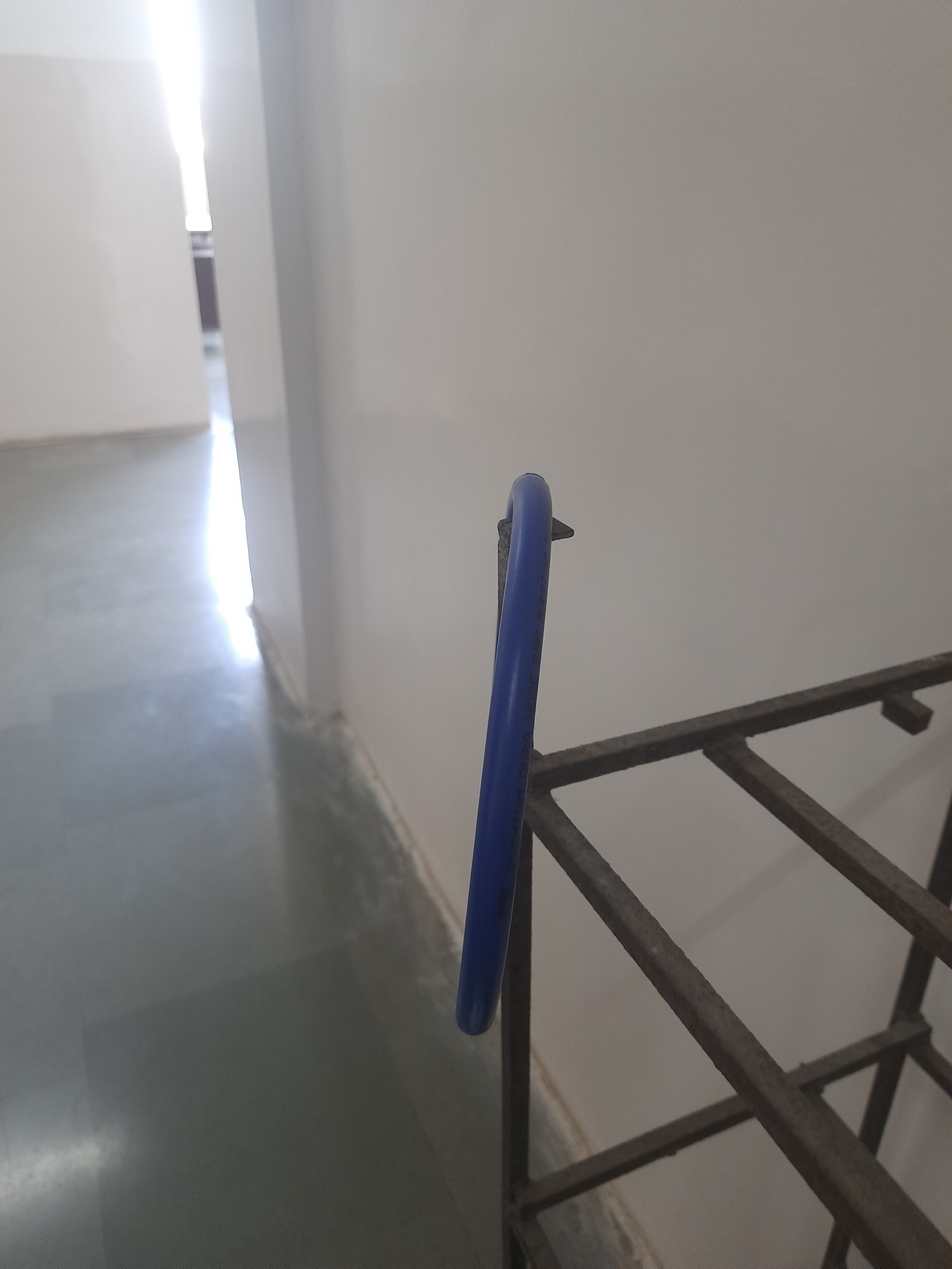Blue ring: (453, 464, 555, 1063)
